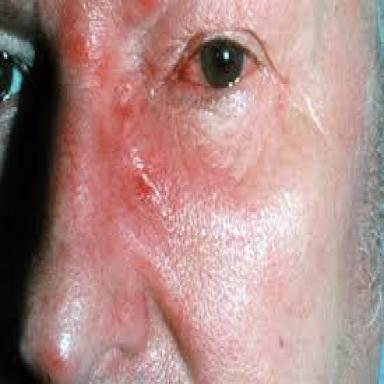burn: (21, 0, 374, 382)
